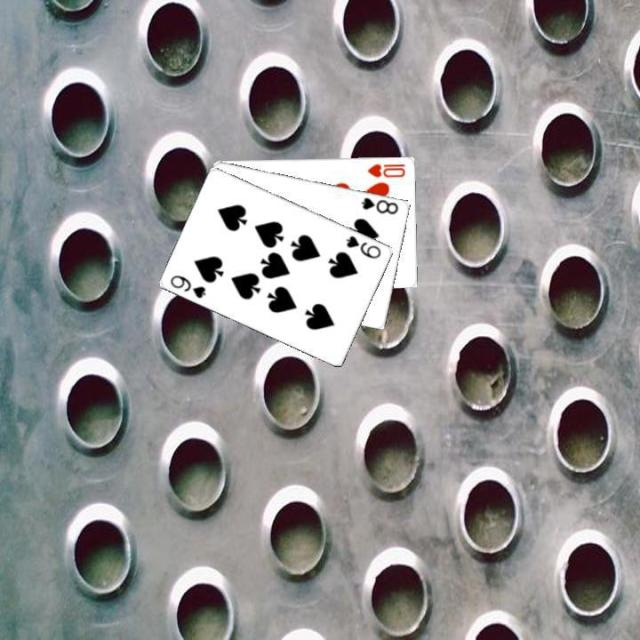10H: (364, 159, 407, 179)
8S: (357, 193, 400, 216)
9S: (342, 231, 383, 261), (167, 271, 208, 300)
